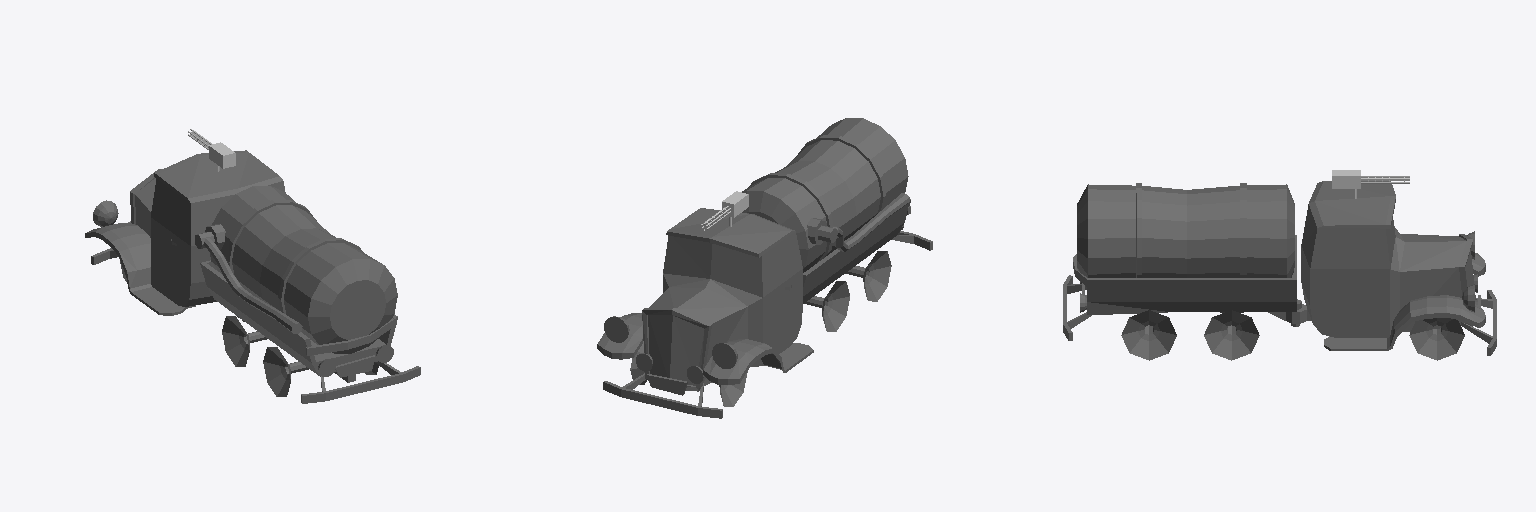
File: machine_gun_base.mtl.obj
The picture shows the model from 3 angles: view 1: azimuth 30°, elevation 25°; view 2: azimuth 150°, elevation 25°; view 3: azimuth 270°, elevation 25°; orthographic projection.
Visible parts, largest first — view 1: Sphere001_Untitled, Cube_Cube.001; view 2: Sphere001_Untitled, Cube_Cube.001; view 3: Sphere001_Untitled, Cube_Cube.001.
Boxes of the visible parts, x1=… form: Sphere001_Untitled: x1=85, y1=150, x2=420, y2=403; Cube_Cube.001: x1=188, y1=129, x2=235, y2=168; Sphere001_Untitled: x1=597, y1=118, x2=932, y2=418; Cube_Cube.001: x1=701, y1=191, x2=748, y2=230; Sphere001_Untitled: x1=1063, y1=181, x2=1496, y2=360; Cube_Cube.001: x1=1332, y1=170, x2=1409, y2=188.
Size of the model in its own units: 2.27 by 2.52 by 6.02.